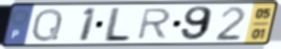1: (80, 6, 98, 43)
2: (215, 5, 248, 42)
9: (179, 5, 217, 43)
L: (100, 6, 134, 43)
Q: (30, 7, 65, 44)
R: (134, 7, 174, 42)
